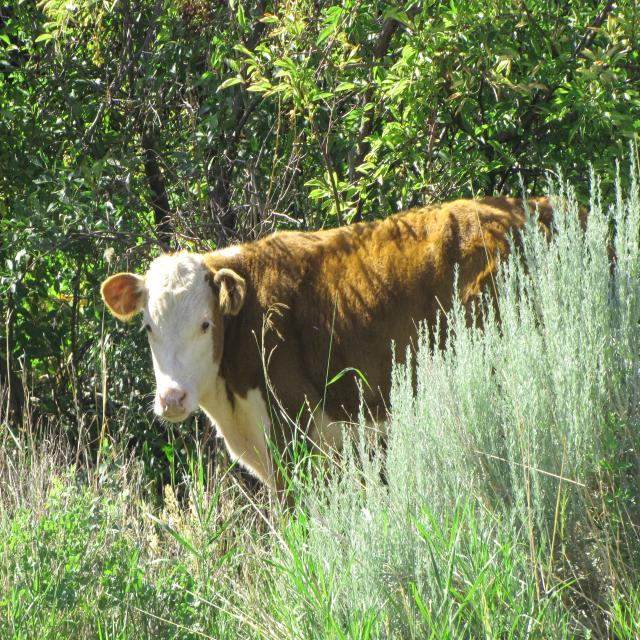cow: (101, 197, 526, 497)
